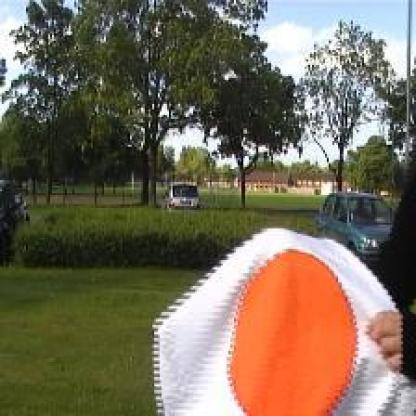other: (220, 246, 358, 412)
